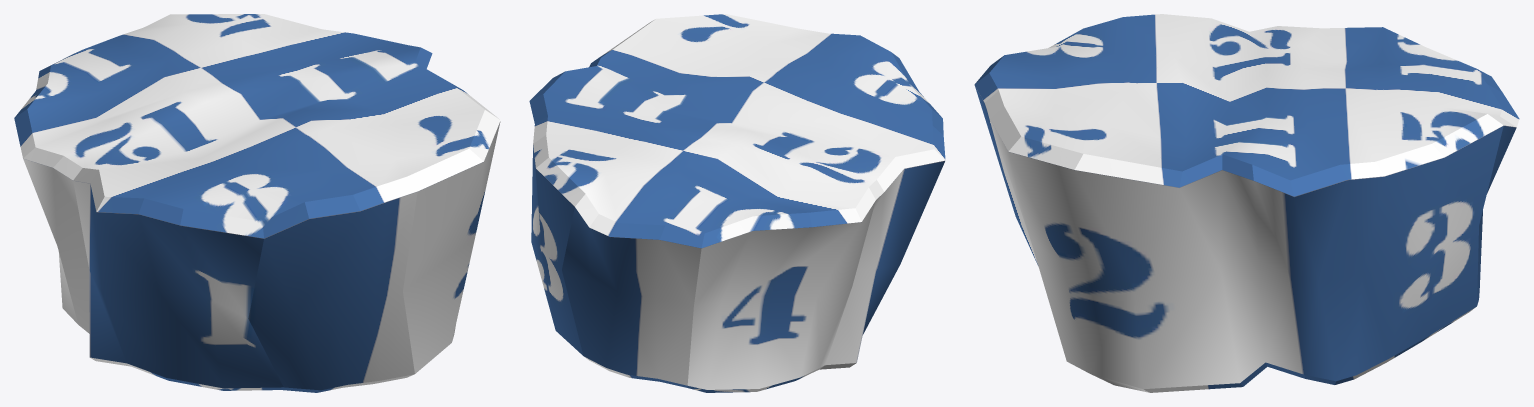
Rendered from RuiDad_Stone1.fbx.
3 views of the same model, side by side, from view 1: azimuth 30°, elevation 25°; view 2: azimuth 150°, elevation 25°; view 3: azimuth 270°, elevation 25° (orthographic). The views are drawn at different scales.
Visible parts, largest first — view 1: SM_e_Plc_P1009_Stone001; view 2: SM_e_Plc_P1009_Stone001; view 3: SM_e_Plc_P1009_Stone001.
Boxes of the visible parts, x1,y1,x2,y2 form: SM_e_Plc_P1009_Stone001: [14, 14, 500, 392]; SM_e_Plc_P1009_Stone001: [529, 14, 945, 392]; SM_e_Plc_P1009_Stone001: [974, 14, 1519, 392].
Size of the model in its own units: 28.9 by 17.64 by 34.01.
